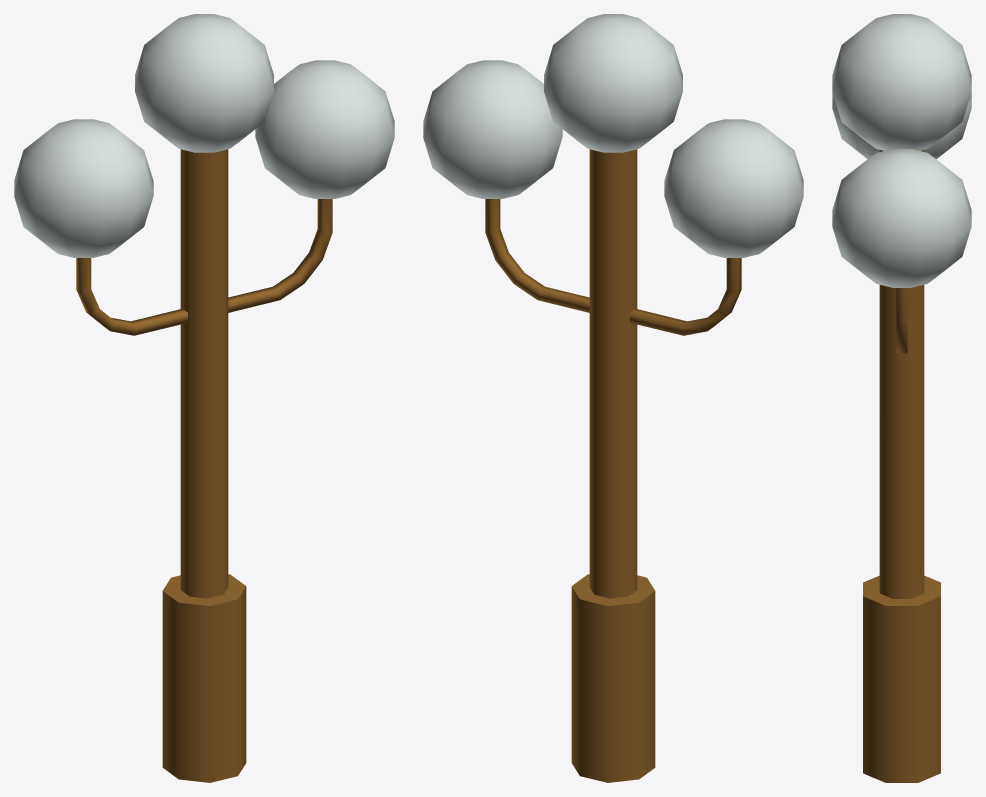
3 renders of one model, left to right at view 1: azimuth 30°, elevation 25°; view 2: azimuth 150°, elevation 25°; view 3: azimuth 270°, elevation 25°, orthographic.
Visible parts, largest first — view 1: sphere (×3), cylinder, sides, support-left, support-right, top; view 2: sphere (×3), cylinder, sides, support-left, support-right, top; view 3: sphere (×3), sides, cylinder, top, support-left.
Part boxes in pixels (x1=…): sphere (×3): x1=14, y1=14, x2=394, y2=257; cylinder: x1=180, y1=149, x2=228, y2=598; sides: x1=162, y1=587, x2=246, y2=782; support-left: x1=228, y1=199, x2=332, y2=312; support-right: x1=76, y1=258, x2=187, y2=335; top: x1=163, y1=574, x2=246, y2=605; sphere (×3): x1=423, y1=14, x2=803, y2=257; cylinder: x1=589, y1=149, x2=637, y2=598; sides: x1=571, y1=587, x2=655, y2=782; support-left: x1=485, y1=199, x2=589, y2=312; support-right: x1=630, y1=258, x2=741, y2=335; top: x1=571, y1=574, x2=654, y2=605; sphere (×3): x1=832, y1=14, x2=971, y2=287; sides: x1=863, y1=596, x2=940, y2=782; cylinder: x1=879, y1=150, x2=924, y2=598; top: x1=863, y1=575, x2=940, y2=605; support-left: x1=896, y1=288, x2=907, y2=353.
Size of the model in its own units: 0.9375 by 1.84 by 0.3125.
1 material, 1 textured.
